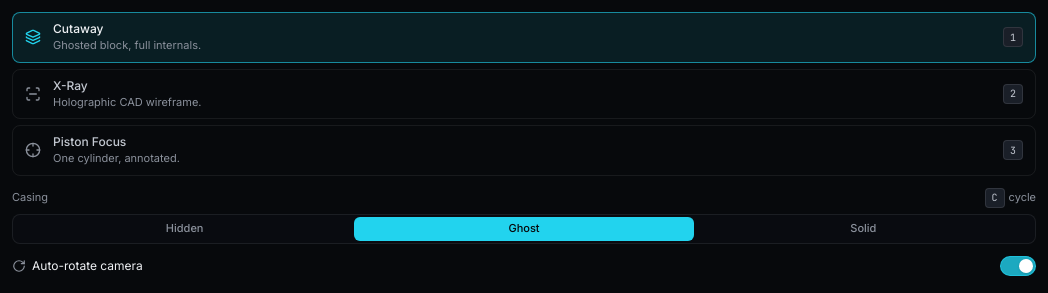
ViewModes › only lets you change the casing in cutaway mode
Check: the radio button labelled "Solid" is enabled, box x1=694 y1=216 x2=1033 y2=240
Click the text "X-Ray": point(70, 85) x1=53 y1=78 x2=88 y2=92
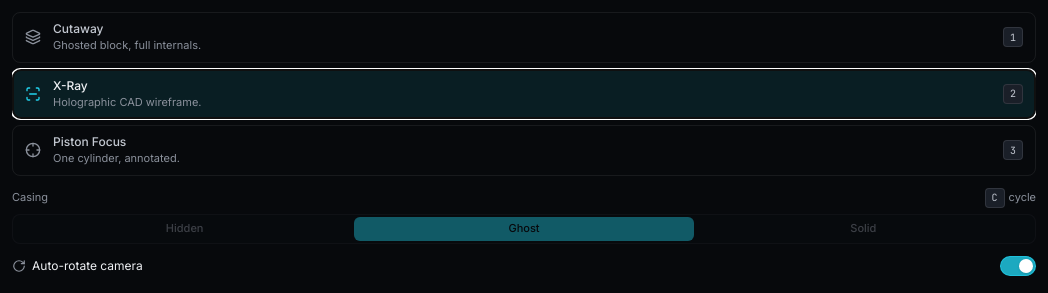
Check: the radio button labelled "Solid" is disabled, box x1=694 y1=216 x2=1033 y2=240
